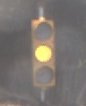Yellow: (26, 11, 60, 94)
